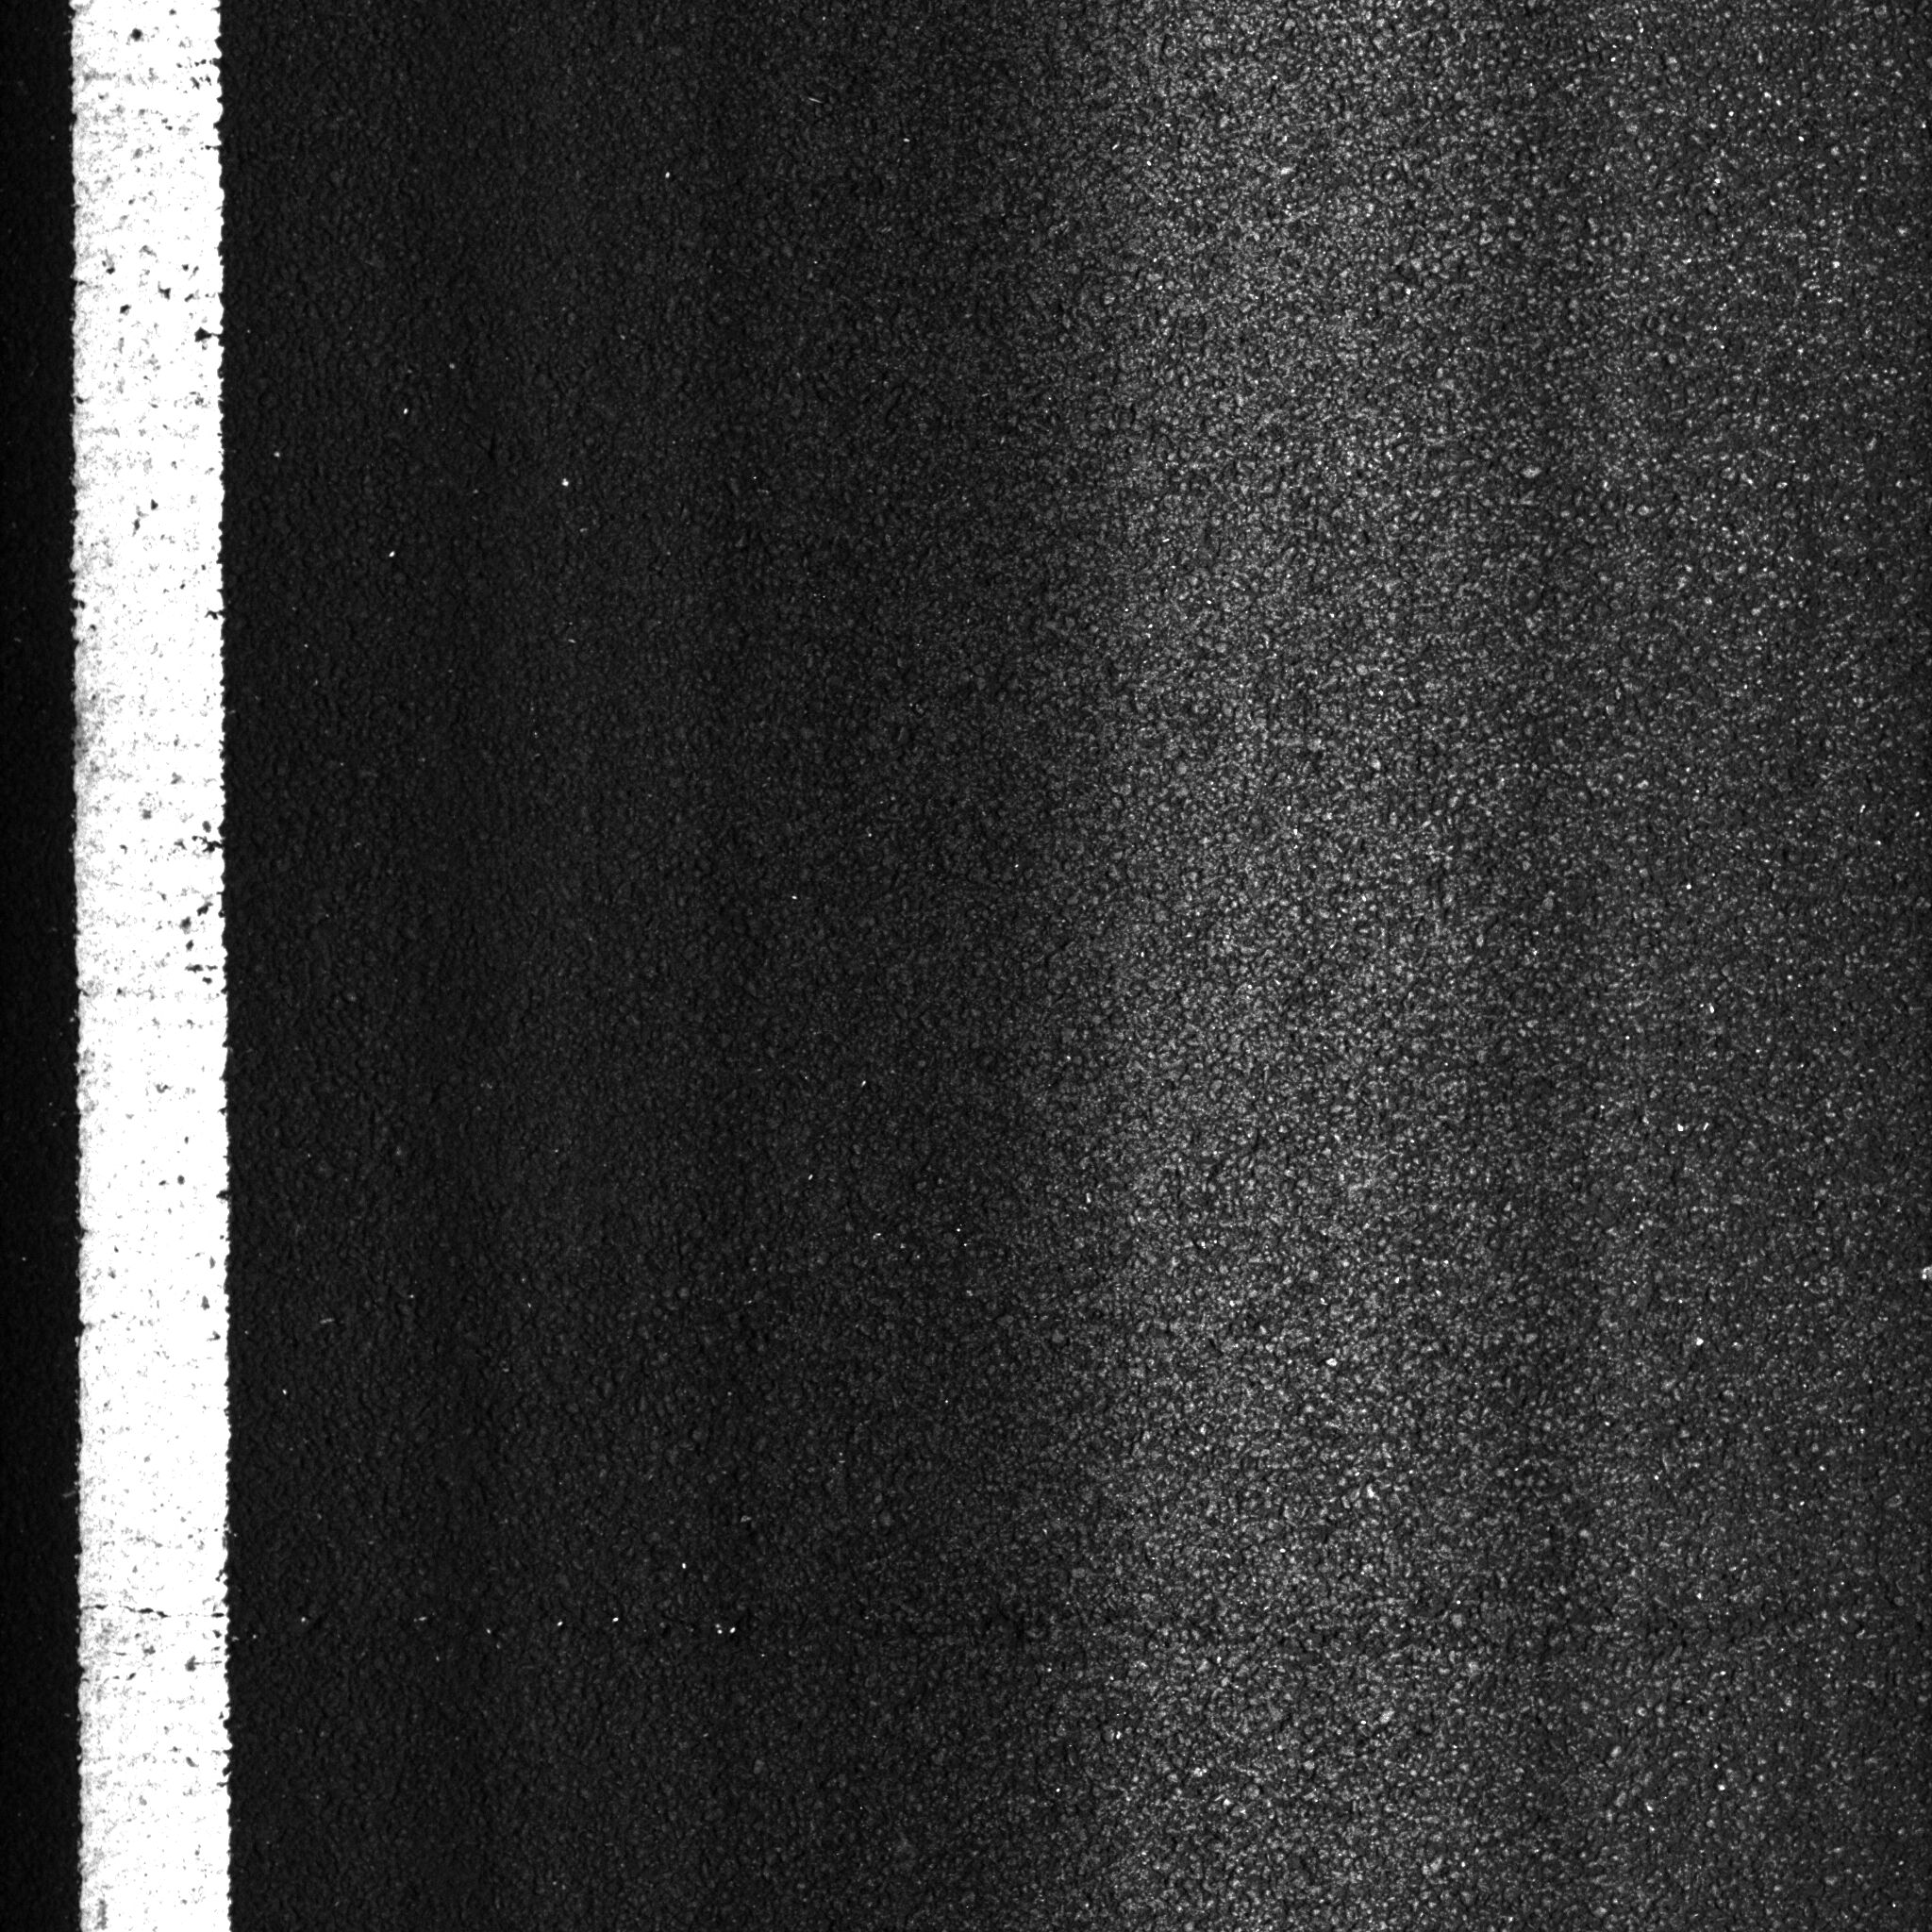transverse: (73, 1548, 1884, 1704)
